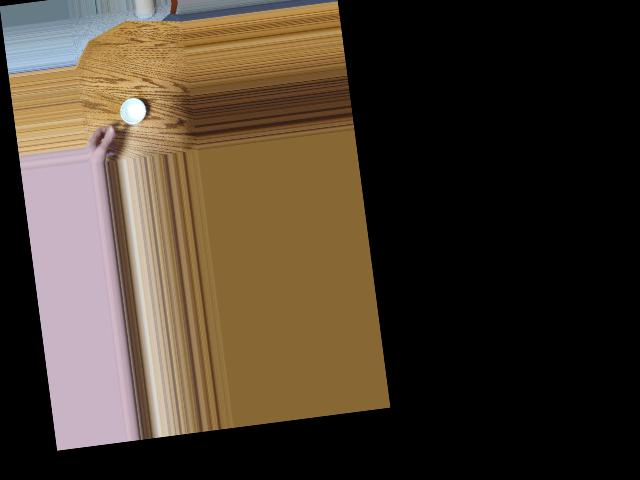cotage: (116, 96, 146, 129)
